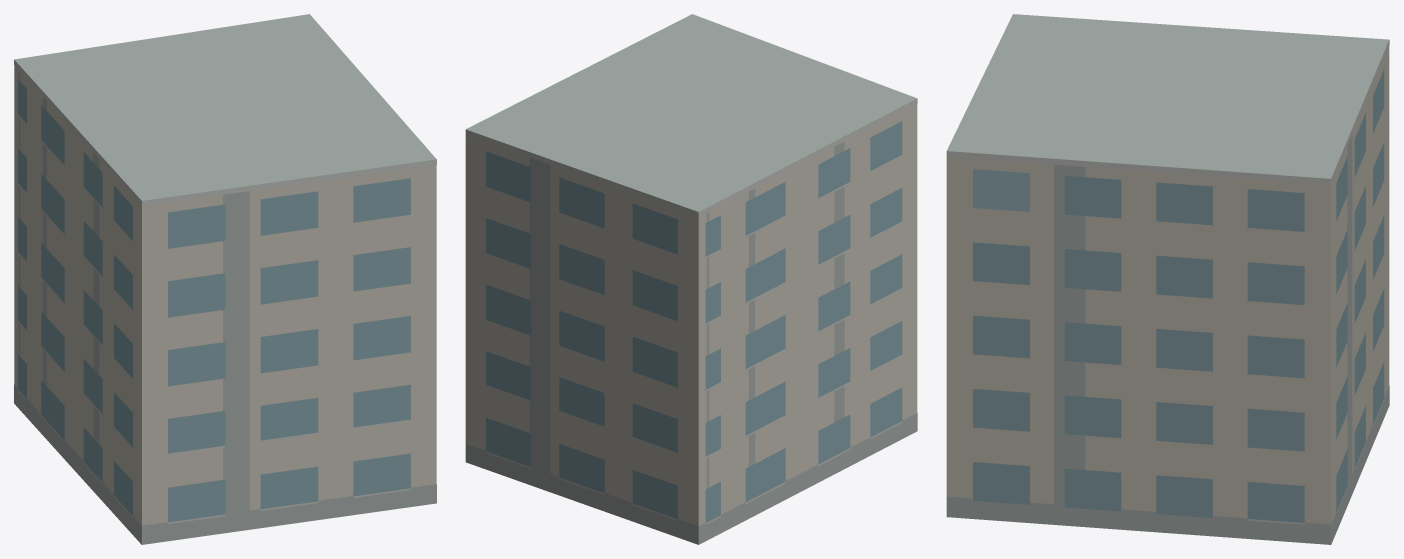
The model's file is survey-upis-32819719.glb.
The picture shows the model from 3 angles, left to right: view 1: azimuth 30°, elevation 25°; view 2: azimuth 150°, elevation 25°; view 3: azimuth 270°, elevation 25°; orthographic projection. The views are drawn at different scales.
Parts seen in each view (by area): view 1: survey-upis-32819719.tmp; view 2: survey-upis-32819719.tmp; view 3: survey-upis-32819719.tmp.
Boxes of the visible parts, bbox=[...] form: survey-upis-32819719.tmp: bbox=[14, 14, 436, 544]; survey-upis-32819719.tmp: bbox=[465, 14, 917, 544]; survey-upis-32819719.tmp: bbox=[946, 14, 1389, 544].
Bounding box in the file's own units: 14.69 × 15.2 × 16.67.
